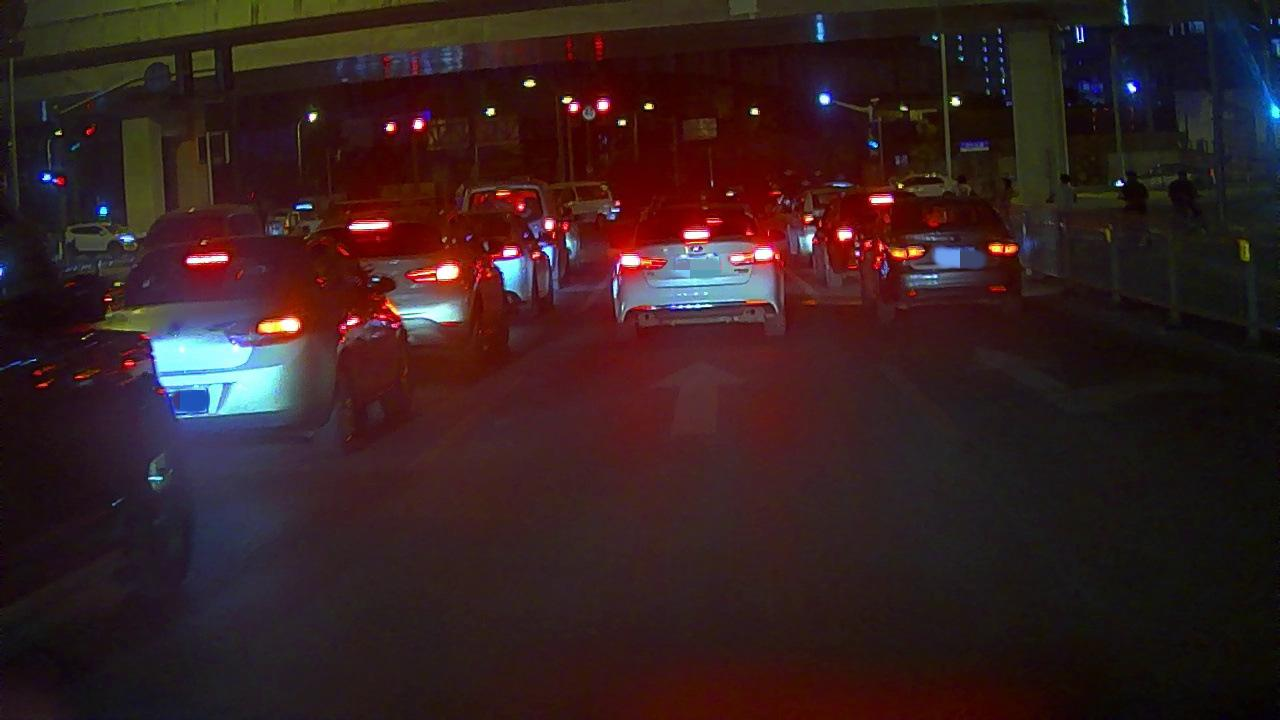traffic_light: (813, 88, 835, 110), (595, 96, 612, 116), (409, 116, 427, 134), (381, 120, 399, 137), (566, 101, 581, 116)
